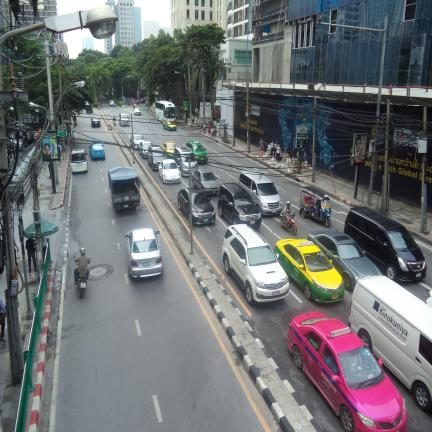bus: (155, 101, 176, 121)
car: (223, 225, 289, 305), (308, 230, 381, 290), (218, 183, 262, 229), (125, 228, 163, 278), (191, 188, 215, 225), (192, 168, 221, 194), (159, 159, 181, 183), (147, 145, 166, 170), (71, 149, 88, 173), (178, 189, 189, 218), (130, 134, 146, 149), (139, 141, 152, 158), (162, 142, 176, 157), (91, 118, 101, 127), (134, 107, 141, 115), (109, 100, 115, 106)
human: (73, 248, 90, 285), (25, 238, 37, 274), (325, 352, 339, 374), (284, 201, 291, 228), (286, 148, 293, 166), (275, 141, 281, 162), (315, 200, 321, 216), (70, 130, 75, 147), (58, 143, 62, 161), (270, 140, 274, 157), (259, 137, 264, 150), (207, 121, 211, 135), (73, 113, 77, 124), (192, 114, 195, 126)
motorbike: (299, 186, 333, 228), (280, 211, 297, 235), (77, 273, 87, 298), (74, 119, 77, 127), (113, 119, 116, 126), (128, 102, 130, 106)
taxi: (287, 312, 407, 432), (274, 239, 344, 303), (186, 141, 208, 163), (89, 142, 105, 160), (162, 142, 176, 158), (163, 120, 177, 131)
truck: (108, 167, 140, 211)
van: (348, 276, 432, 411), (344, 207, 427, 280), (238, 171, 283, 214), (173, 146, 198, 175), (120, 113, 130, 126)
